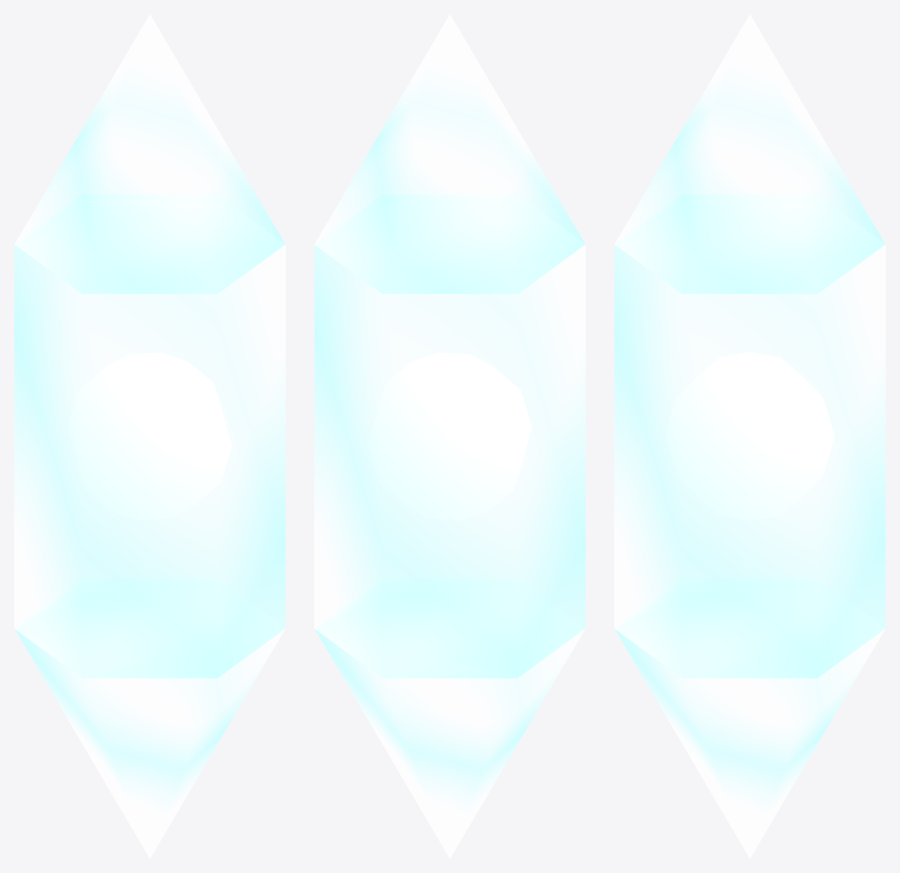
The model's file is xy_item_imprint.glb.
3 renders of one model, left to right at view 1: azimuth 30°, elevation 25°; view 2: azimuth 150°, elevation 25°; view 3: azimuth 270°, elevation 25°, orthographic.
Visible parts, largest first — view 1: xy_item_imprint; view 2: xy_item_imprint; view 3: xy_item_imprint.
Boxes of the visible parts, left/top/right/bottom form: xy_item_imprint: left=14, top=14, right=285, bottom=858; xy_item_imprint: left=314, top=14, right=585, bottom=858; xy_item_imprint: left=614, top=14, right=885, bottom=858.
Size of the model in its own units: 0.2771 by 1.1 by 0.32.
